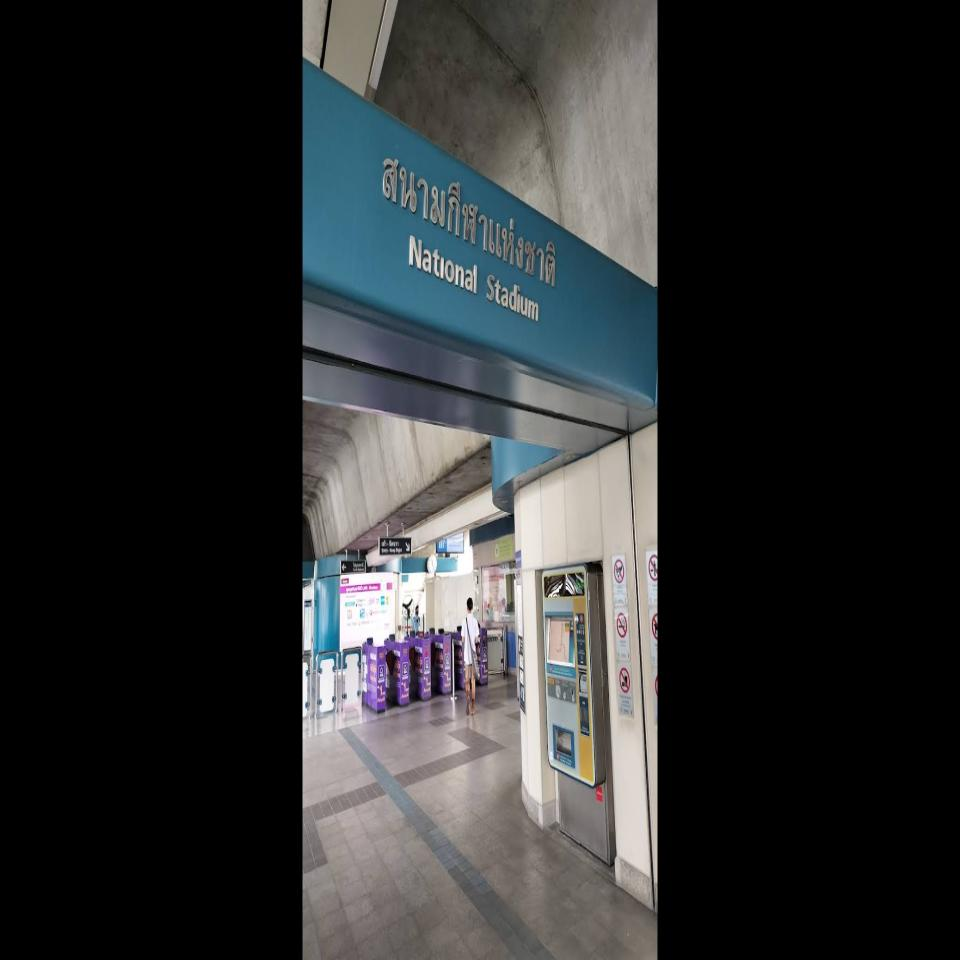signage: (382, 155, 557, 323)
